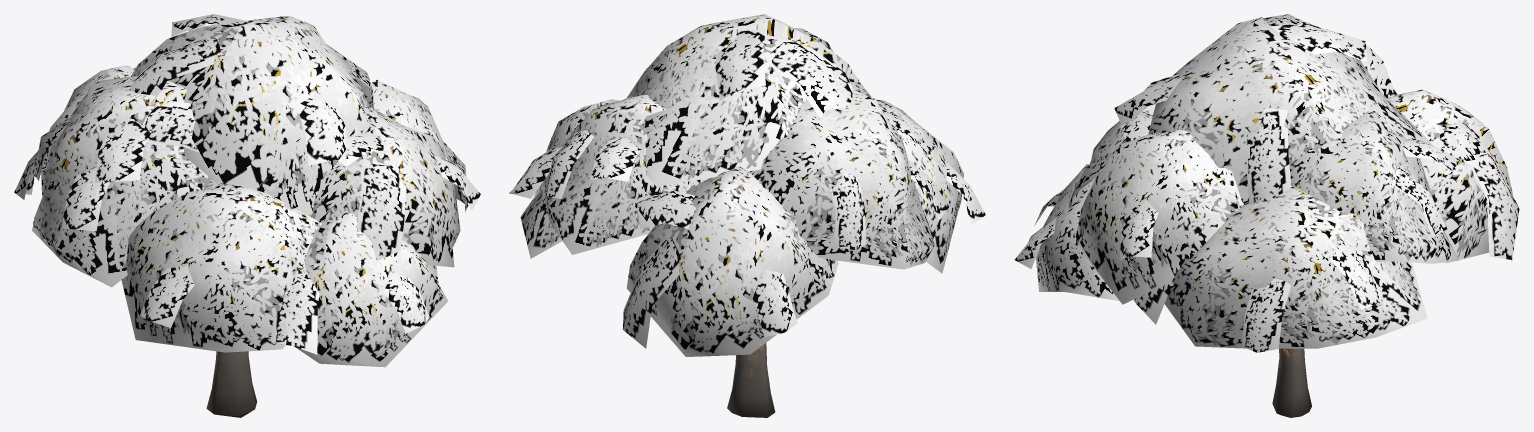
Rendered from dogwood-material.glb.
The picture shows the model from 3 angles, left to right: view 1: azimuth 30°, elevation 25°; view 2: azimuth 150°, elevation 25°; view 3: azimuth 270°, elevation 25°; orthographic projection. The views are drawn at different scales.
Visible parts, largest first — view 1: dogwood_LOD0; view 2: dogwood_LOD0; view 3: dogwood_LOD0.
Part boxes in pixels (bbox=[...]): dogwood_LOD0: bbox=[14, 14, 480, 417]; dogwood_LOD0: bbox=[509, 14, 985, 417]; dogwood_LOD0: bbox=[1015, 14, 1519, 417].
Size of what is drawn, in the model's own units: 11.5 by 11.04 by 12.84.
Materials: 2 (2 with a texture image).
